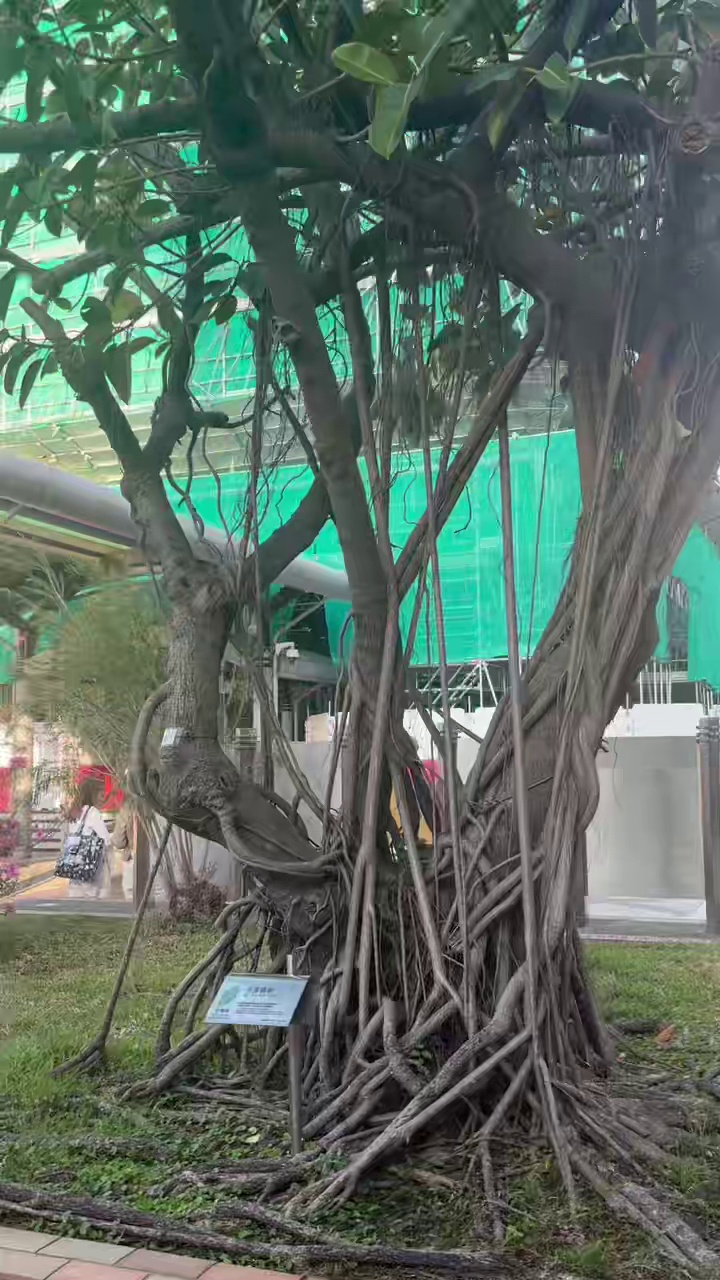Ficus elastica: (0, 0, 719, 1238)
